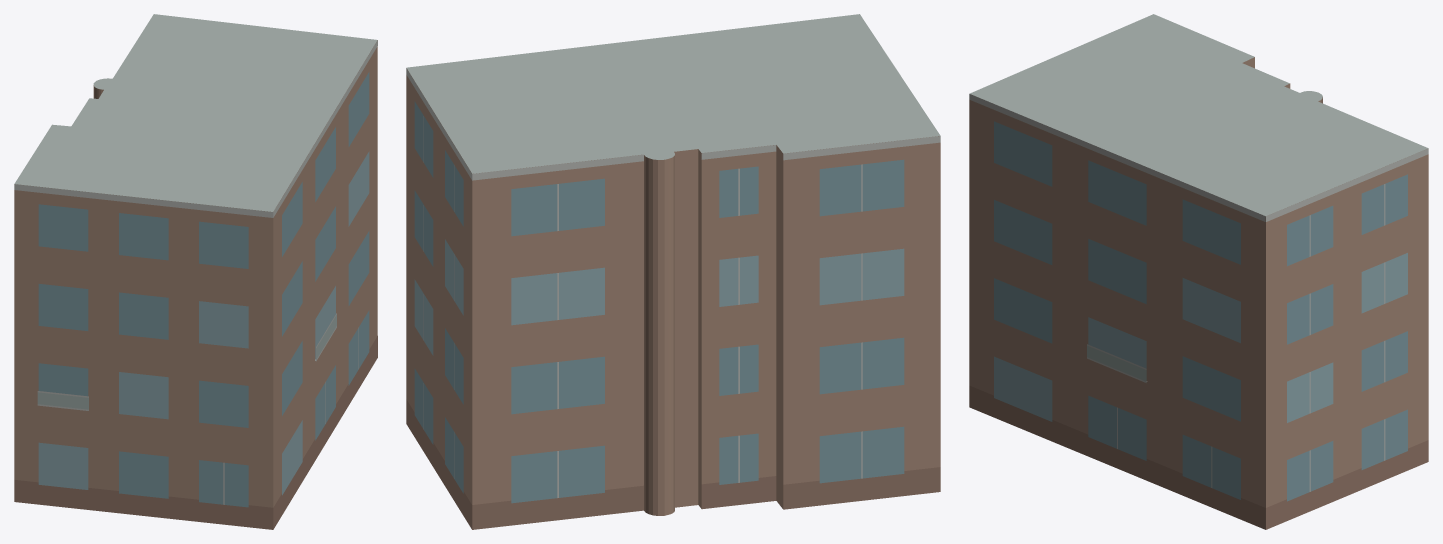
File: survey-upis-32740079.glb
3 views of the same model, side by side, from view 1: azimuth 30°, elevation 25°; view 2: azimuth 150°, elevation 25°; view 3: azimuth 270°, elevation 25° (orthographic). The views are drawn at different scales.
Visible parts, largest first — view 1: survey-upis-32740079.tmp; view 2: survey-upis-32740079.tmp; view 3: survey-upis-32740079.tmp.
Part boxes in pixels (<box>): survey-upis-32740079.tmp: <box>14,14,377,529</box>; survey-upis-32740079.tmp: <box>406,14,940,529</box>; survey-upis-32740079.tmp: <box>969,14,1428,529</box>.
Bounding box in the file's own units: 17.85 × 12.9 × 17.13.
